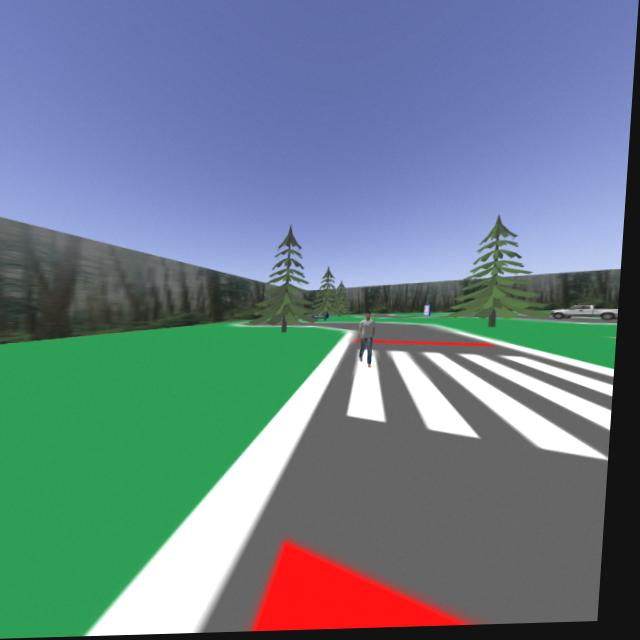pedestrian: (353, 306, 380, 372)
